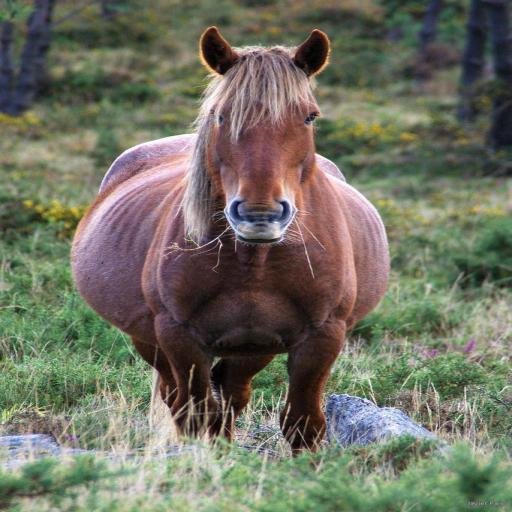horse: (66, 28, 390, 458)
